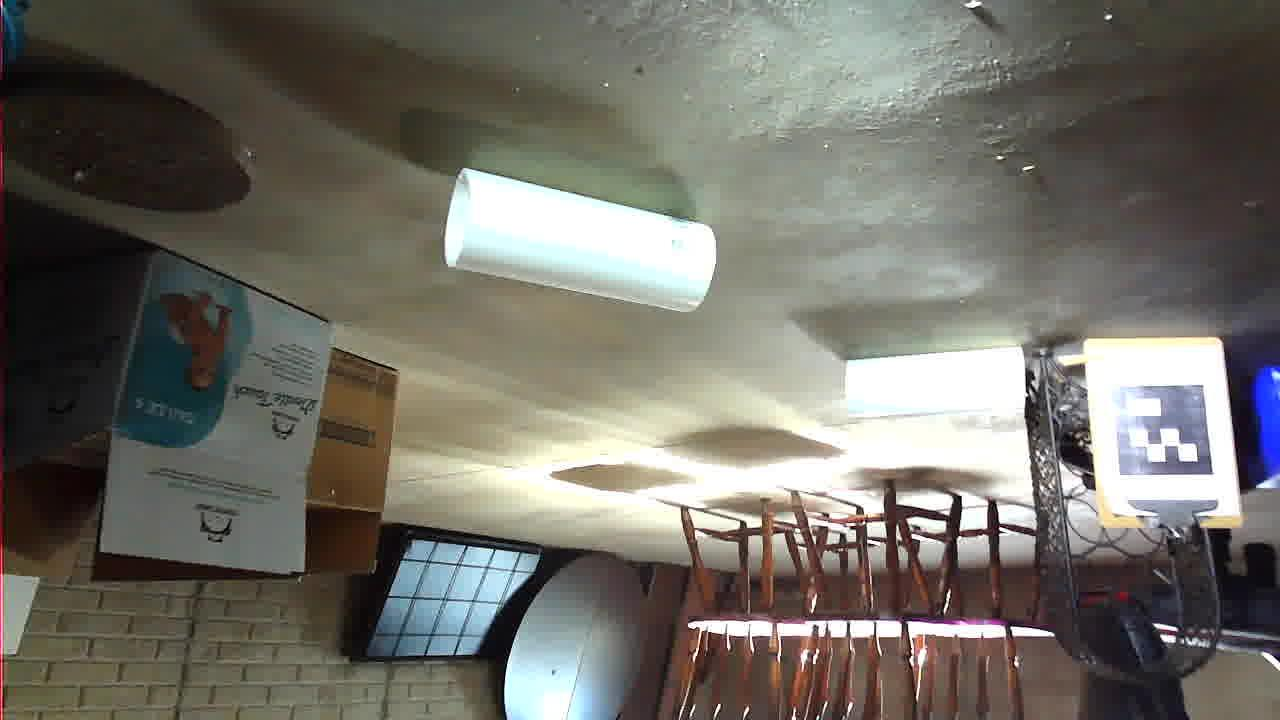coral: (558, 401, 841, 557)
